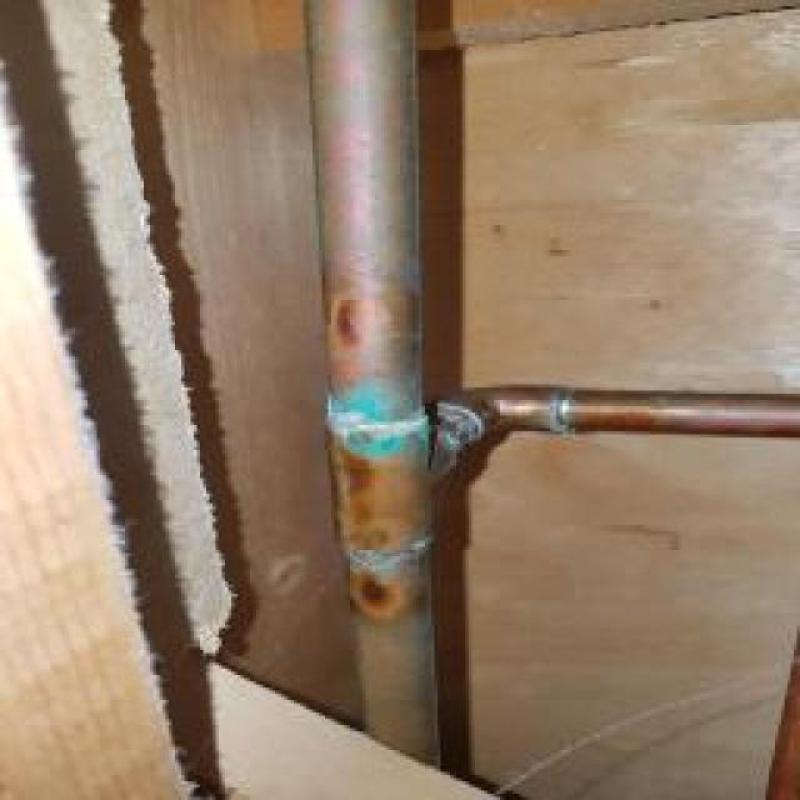Fracture: (328, 402, 436, 442), (413, 399, 464, 478)
